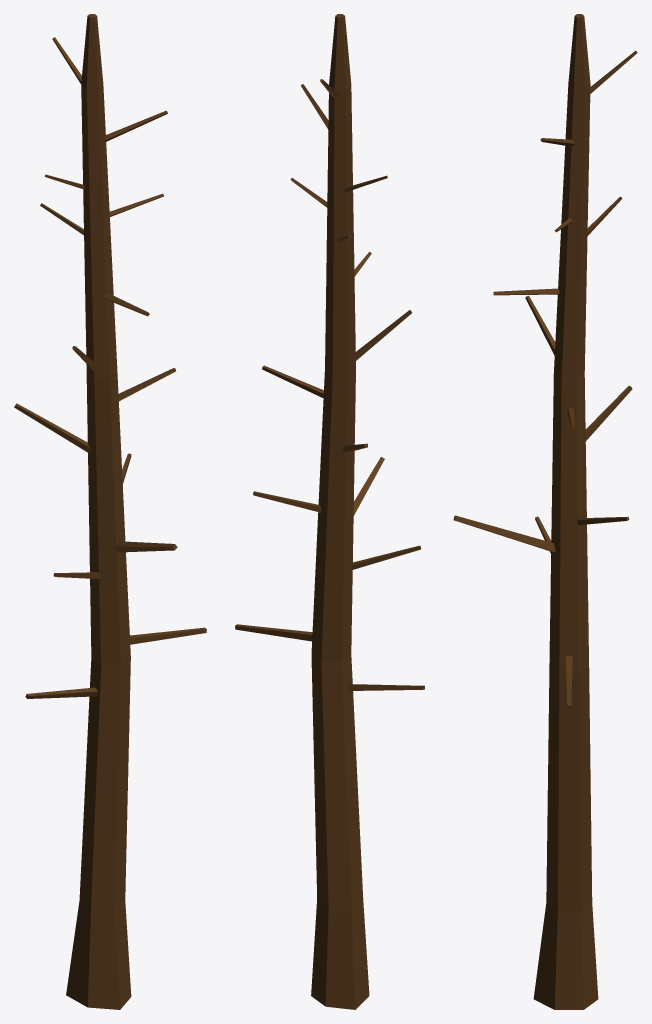
File: tree1.fbx
3 views of the same model, side by side, from view 1: azimuth 30°, elevation 25°; view 2: azimuth 150°, elevation 25°; view 3: azimuth 270°, elevation 25° (orthographic).
Parts seen in each view (by area): view 1: Tree5_2; view 2: Tree5_2; view 3: Tree5_2.
Part boxes in pixels (x1=…): Tree5_2: x1=14, y1=14, x2=206, y2=1009; Tree5_2: x1=235, y1=14, x2=424, y2=1009; Tree5_2: x1=453, y1=14, x2=637, y2=1009.
Size of the model in its own units: 174 by 887 by 151.
